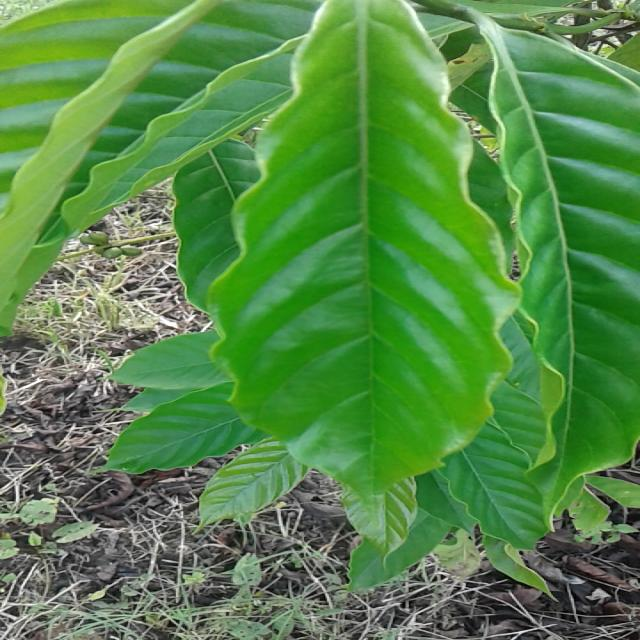Sanas: (203, 0, 524, 534)
